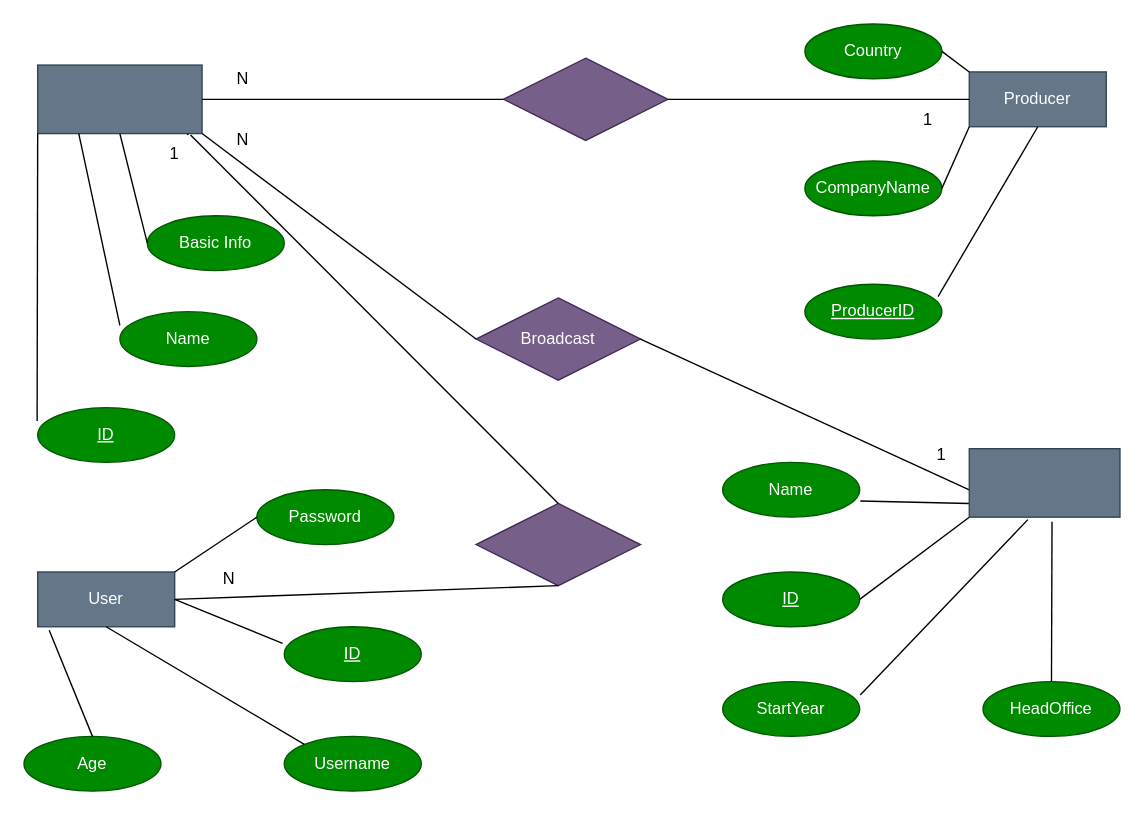
Some shapes in this 1144 by 815 pixel diagram are drawn without their labels. Here are the shapes that lost their labels. From the top down, the box of each, then its label:
(36, 64, 202, 134): Reality Show
(502, 57, 668, 140): Produce
(968, 447, 1120, 517): TVChanel
(475, 502, 640, 586): Rate
